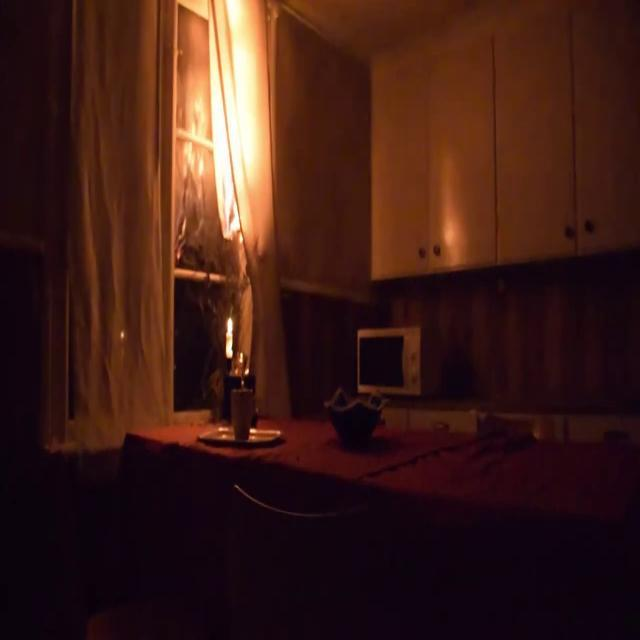Fire: (185, 0, 262, 242)
